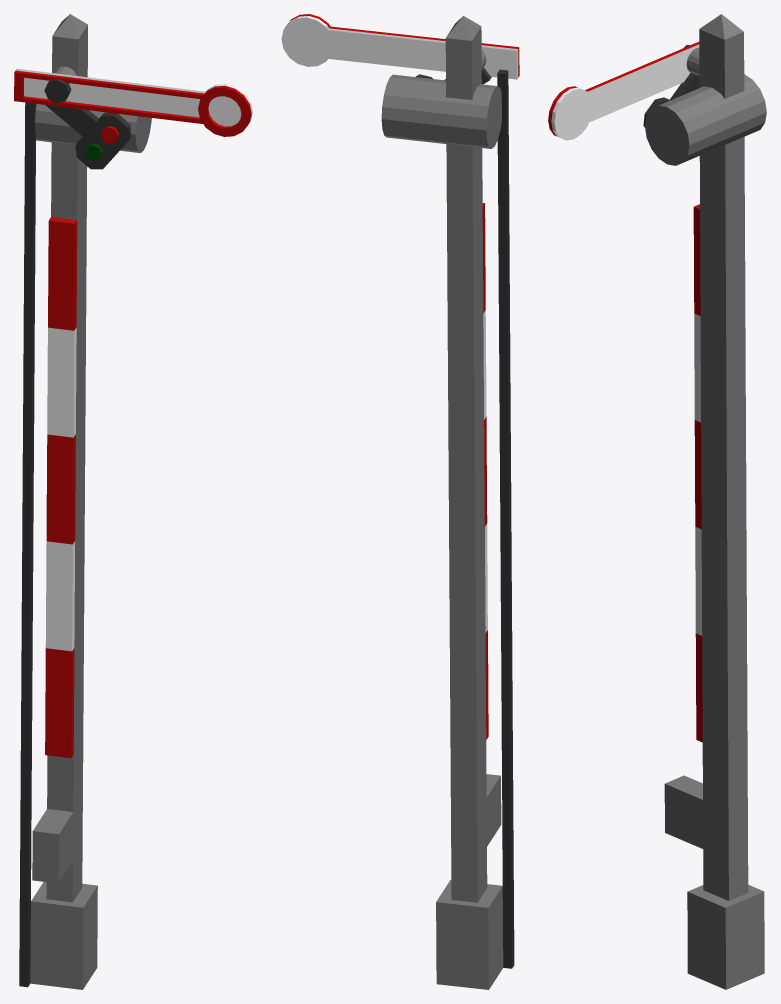
The model's file is GMLID_3313190_307178_612.dae.
The picture shows the model from 3 angles, left to right: view 1: azimuth 30°, elevation 25°; view 2: azimuth 210°, elevation 25°; view 3: azimuth 270°, elevation 25°; orthographic projection.
Bounding box in the file's own units: 2.38 × 2.9 × 14.04.
